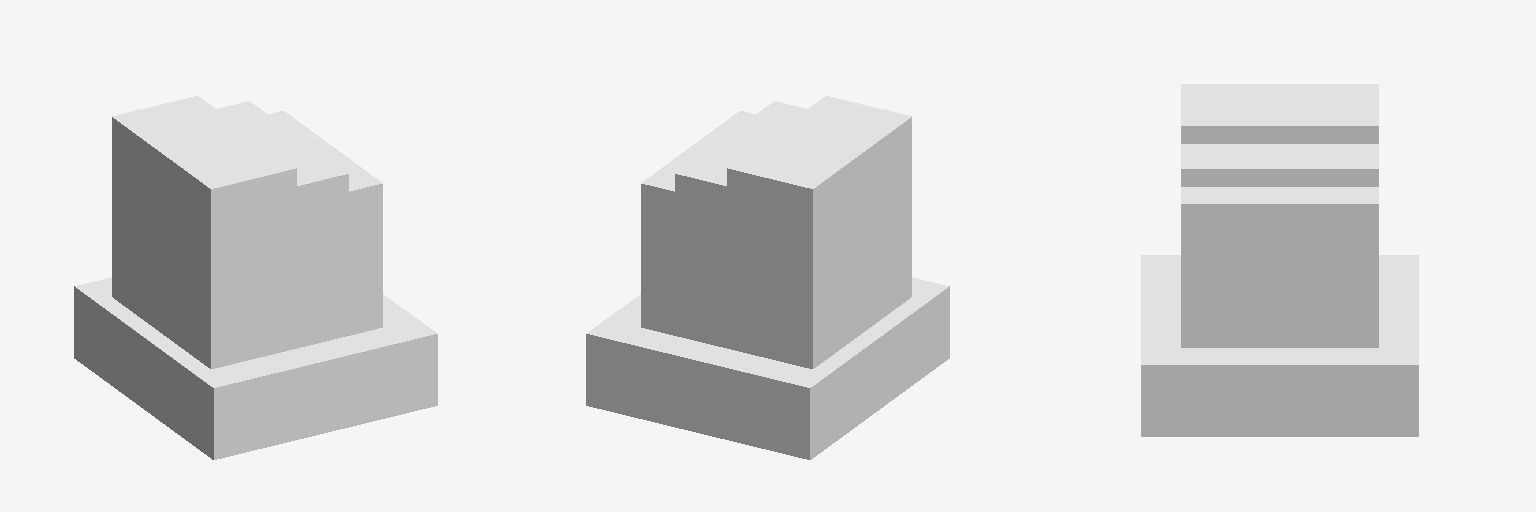
The model's file is computer-cute.obj.
3 renders of one model, left to right at view 1: azimuth 30°, elevation 25°; view 2: azimuth 150°, elevation 25°; view 3: azimuth 270°, elevation 25°, orthographic.
Parts seen in each view (by area): view 1: object 1; view 2: object 1; view 3: object 1.
Part boxes in pixels (bbox=[...]): object 1: bbox=[74, 96, 437, 459]; object 1: bbox=[586, 96, 949, 459]; object 1: bbox=[1141, 84, 1418, 436].
Size of the model in its own units: 1.3 by 1.4 by 1.4.